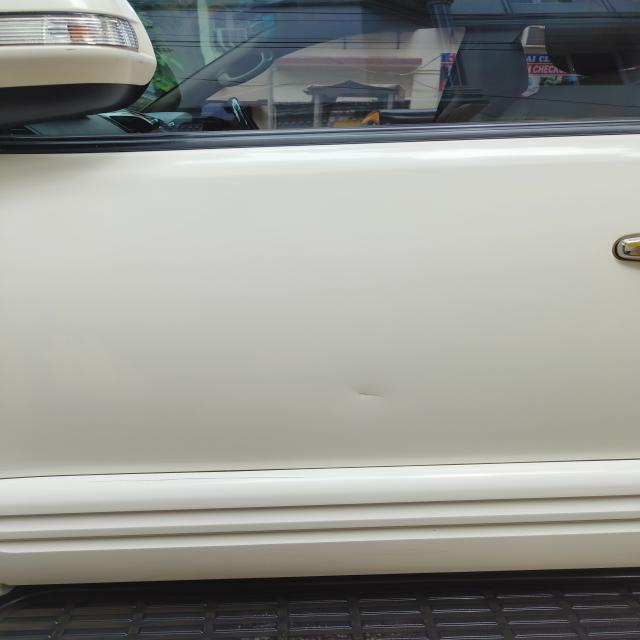scratch: (351, 386, 388, 405)
